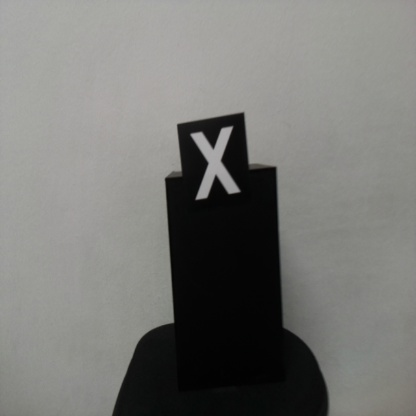id_13: (177, 123, 250, 214)
